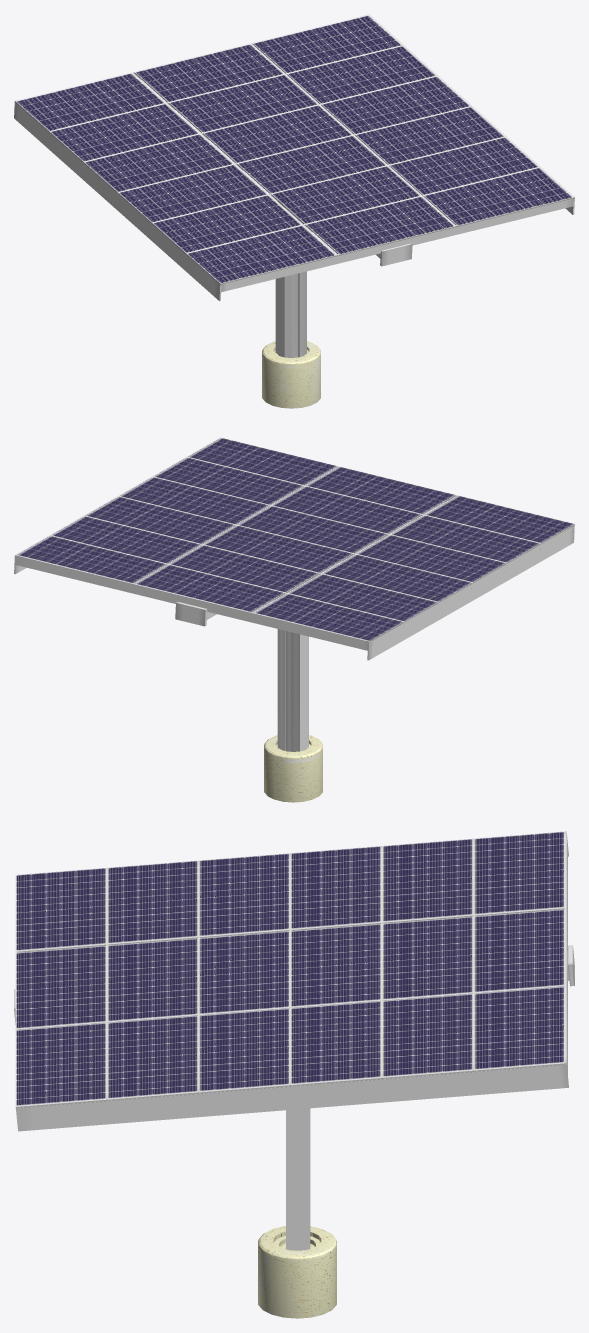
Rendered from full_cantilever_t.glb.
3 renders of one model, top to bottom at view 1: azimuth 30°, elevation 25°; view 2: azimuth 150°, elevation 25°; view 3: azimuth 270°, elevation 25°, orthographic. The views are drawn at different scales.
Parts seen in each view (by area): view 1: Object010_Material #11545_0; view 2: Object010_Material #11545_0; view 3: Object010_Material #11545_0.
Part boxes in pixels (x1,y1,x2,y2): Object010_Material #11545_0: [14, 14, 574, 408]; Object010_Material #11545_0: [14, 437, 574, 802]; Object010_Material #11545_0: [14, 831, 574, 1318].
Bounding box in the file's own units: 232 × 166 × 237.
Materials: 1 (1 with a texture image).
